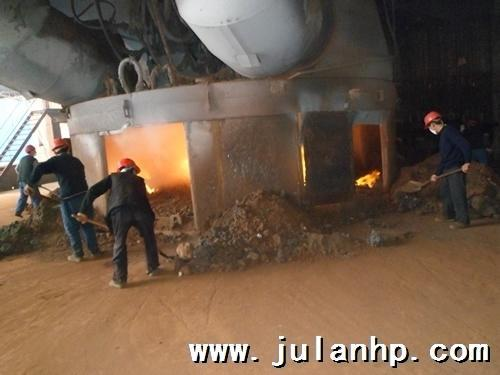helmet: (417, 107, 449, 138), (47, 135, 75, 161), (114, 156, 142, 181), (22, 143, 39, 160)
